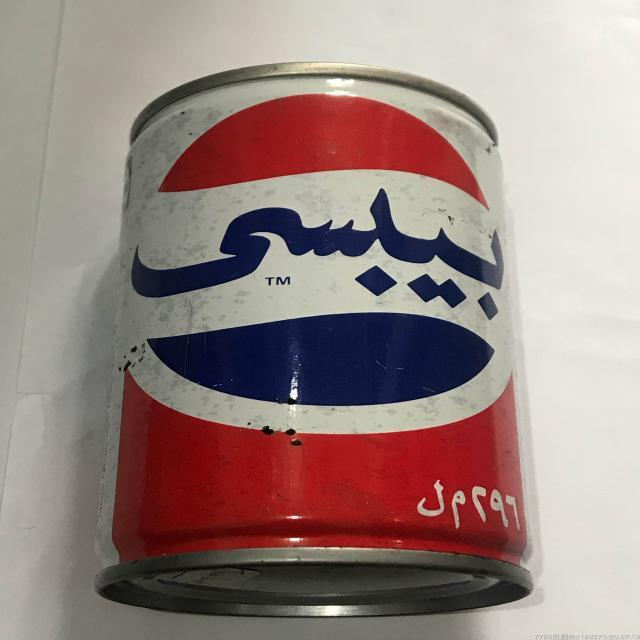can: (96, 63, 532, 616)
